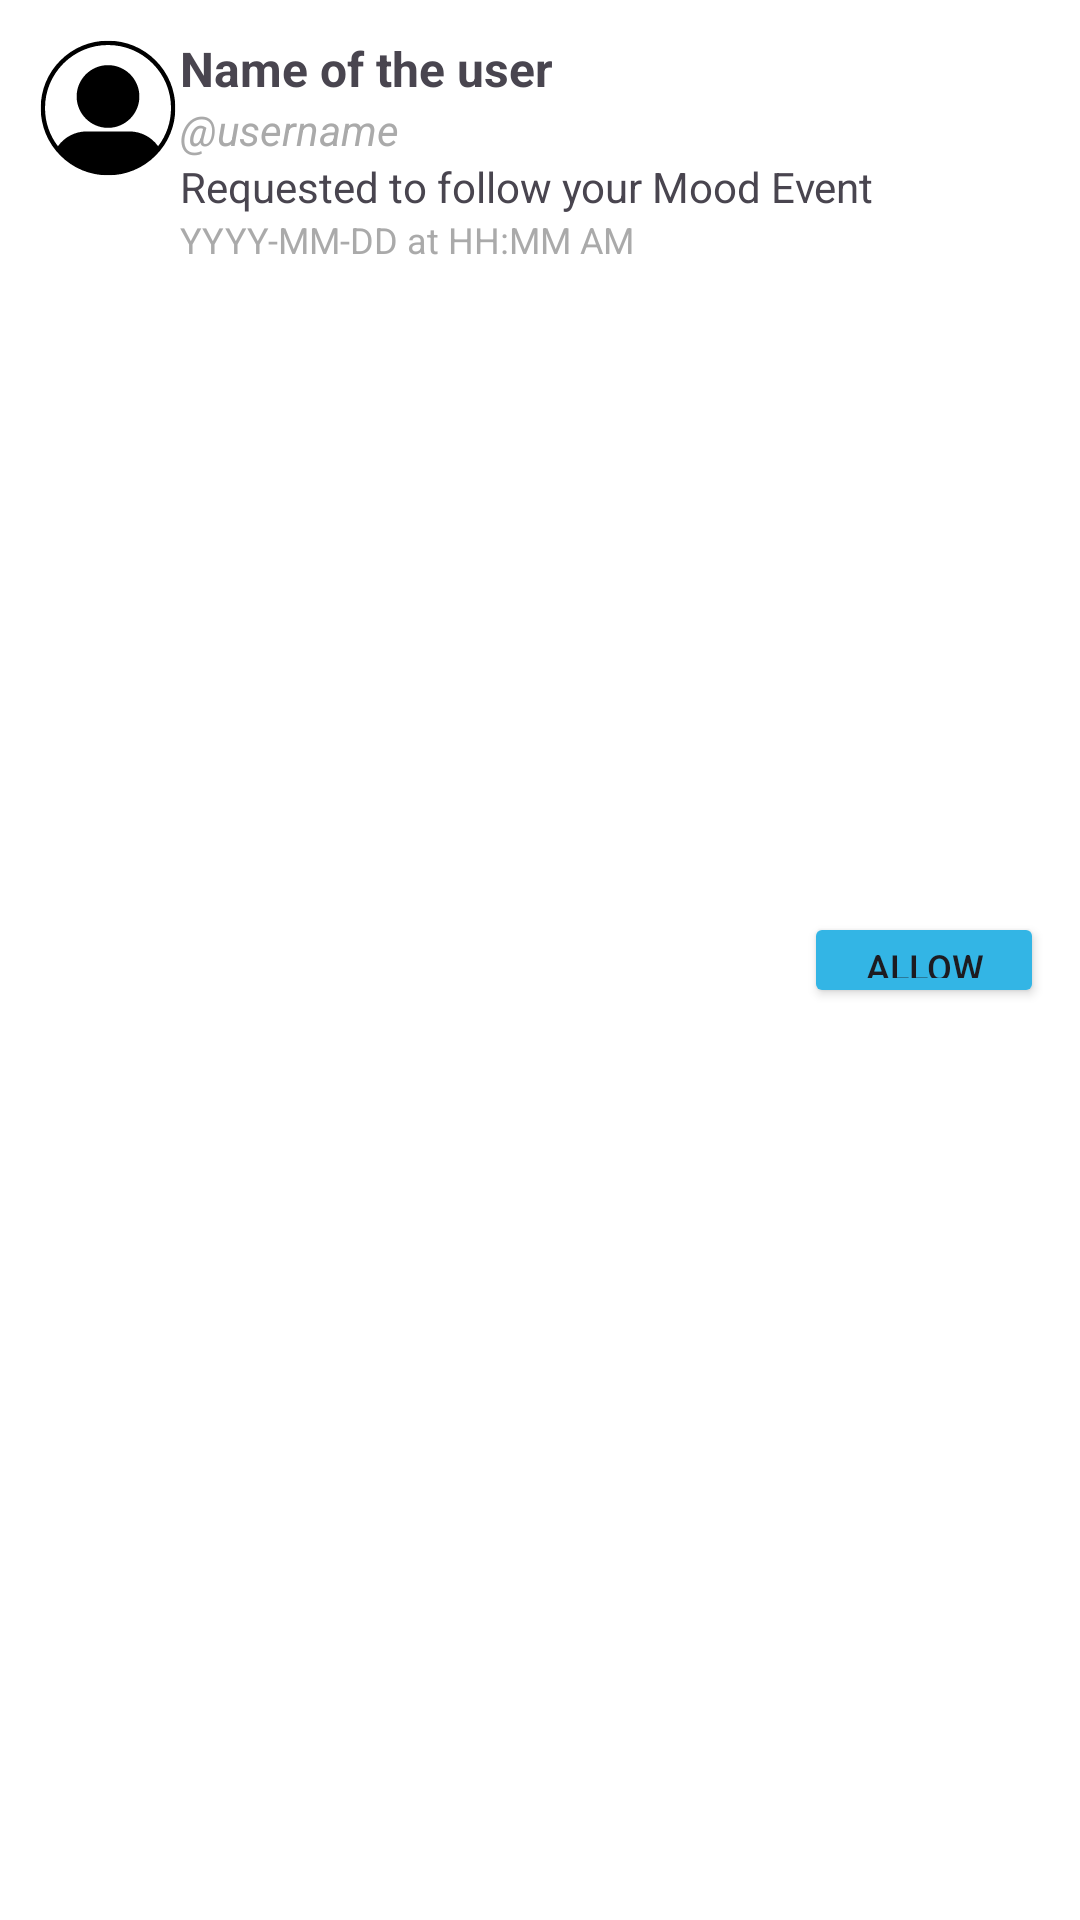

Icons on this 1080×1920 Android screen, each with the point to tap as [x,y]:
profile: [108,108]
